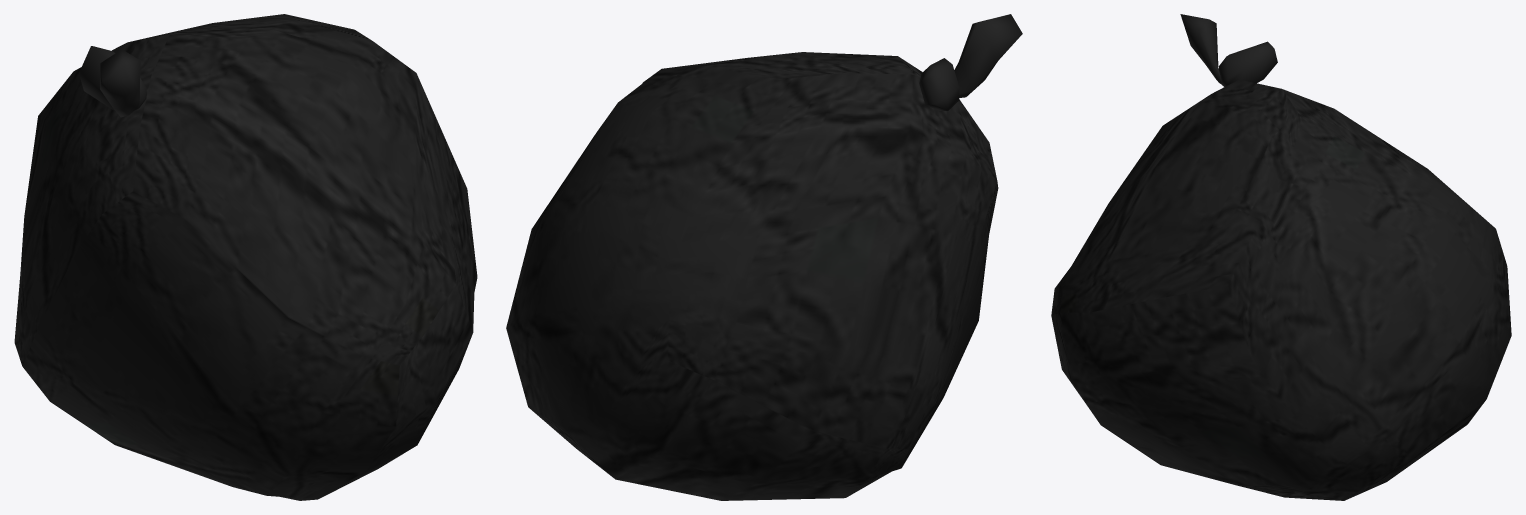
File: bag-1.glb
3 renders of one model, left to right at view 1: azimuth 30°, elevation 25°; view 2: azimuth 150°, elevation 25°; view 3: azimuth 270°, elevation 25°, orthographic. The views are drawn at different scales.
Parts seen in each view (by area): view 1: Bag 1; view 2: Bag 1; view 3: Bag 1.
Part boxes in pixels (x1,y1,x2,y2): Bag 1: [14, 14, 477, 500]; Bag 1: [506, 14, 1022, 500]; Bag 1: [1051, 14, 1511, 500].
Size of the model in its own units: 0.5929 by 0.6103 by 0.6863.
Materials: 1 (1 with a texture image).
